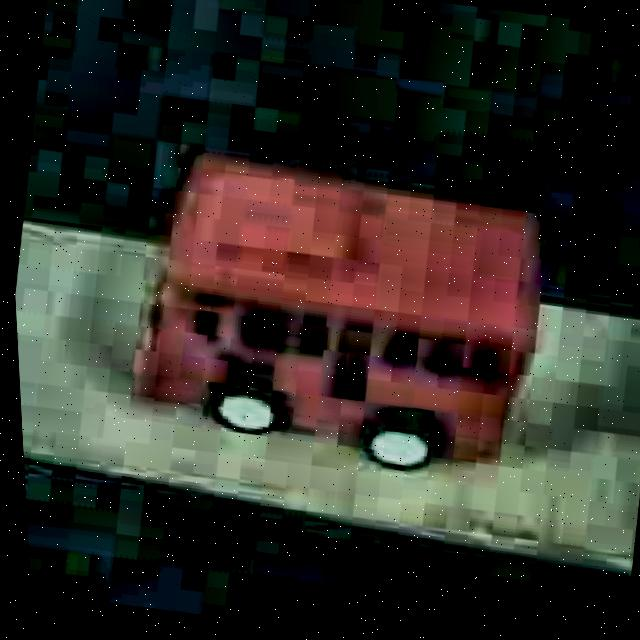bus: (117, 134, 568, 500)
